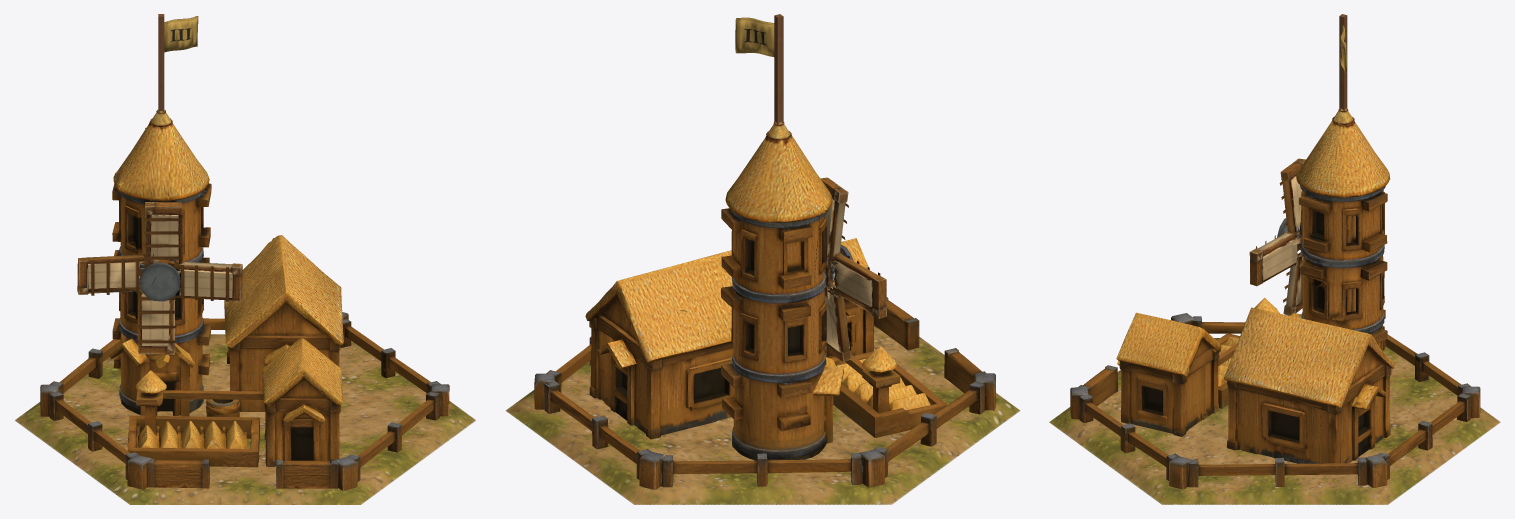
File: farm-3.glb
3 views of the same model, side by side, from view 1: azimuth 30°, elevation 25°; view 2: azimuth 150°, elevation 25°; view 3: azimuth 270°, elevation 25° (orthographic). The views are drawn at different scales.
Visible parts, largest first — view 1: architecture, ground, rotor, tier-banner; view 2: architecture, ground, rotor, tier-banner; view 3: architecture, ground, rotor.
Boxes of the visible parts, box(x1,y1,x2,y2) form: architecture: box(40, 14, 449, 490); ground: box(15, 334, 475, 504); rotor: box(77, 202, 242, 354); tier-banner: box(164, 16, 198, 52); architecture: box(534, 14, 995, 489); ground: box(505, 326, 1020, 504); rotor: box(820, 177, 886, 362); tier-banner: box(735, 17, 774, 56); architecture: box(1070, 14, 1480, 489); ground: box(1049, 338, 1500, 504); rotor: box(1249, 158, 1305, 315).
Size of the model in its own units: 1.59 by 1.72 by 1.84.
3 materials, 3 textured.
